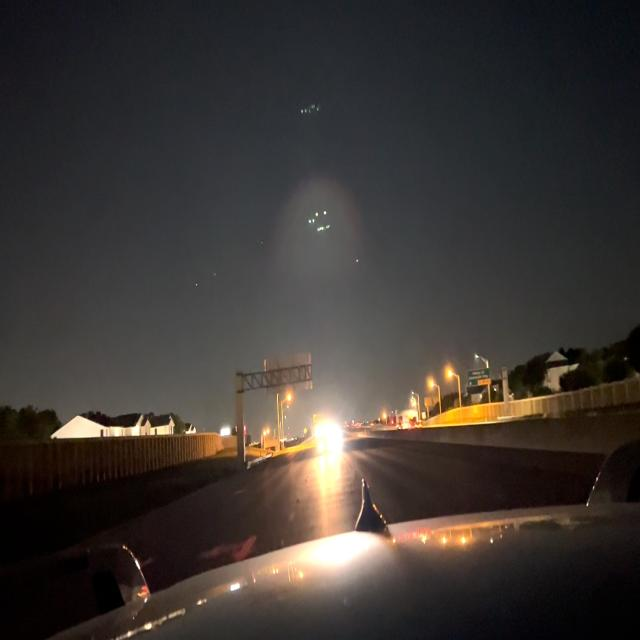back-of-sign: (264, 351, 314, 392)
